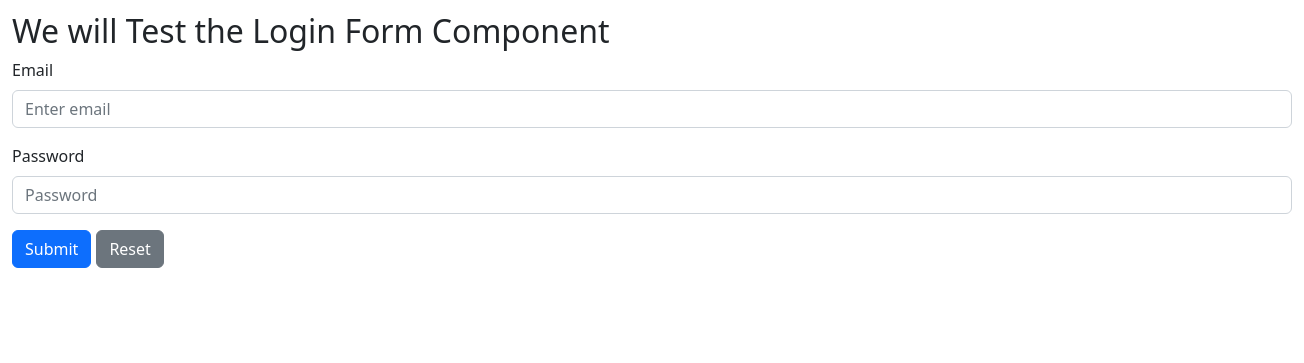
Test login component › admin should be able to login the form and reset password
Type "sriadmin@gmail.com" into the field with placeholder "Enter email" at (652, 109), box [12,90,1292,128]
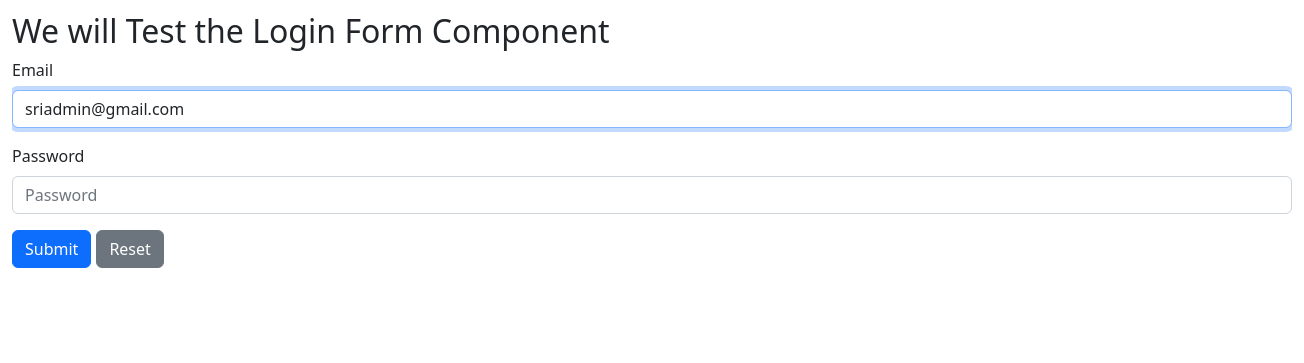
Type "123445" into the password field with placeholder "Password" at (652, 195), box [12,176,1292,214]
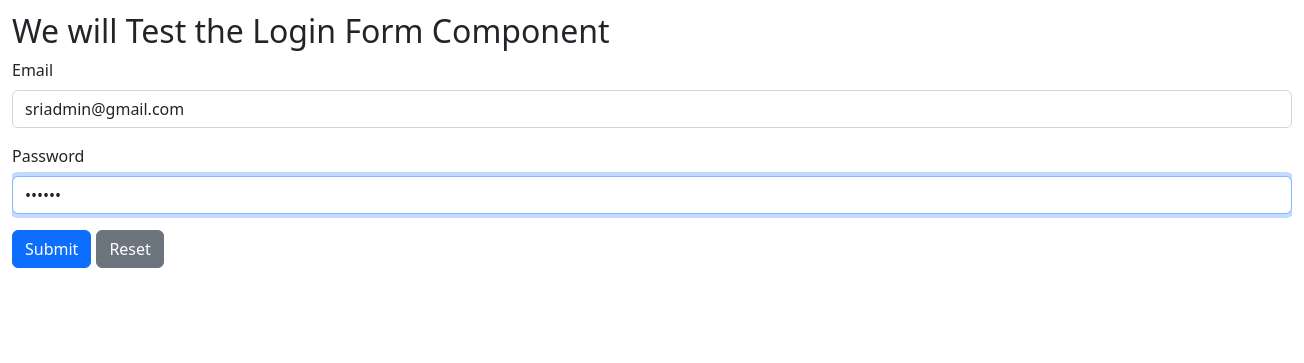
Click the button with test id "submit" at (52, 249), box [12,230,91,268]
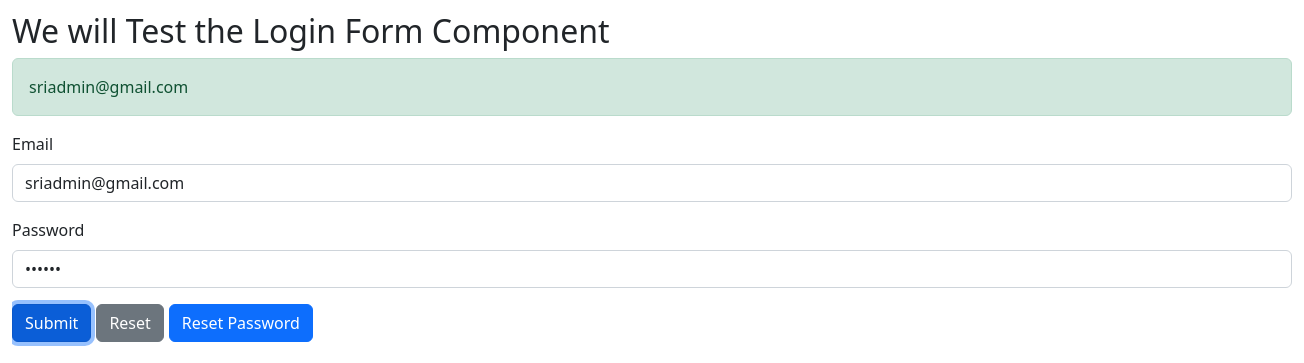
Expected: the number of buttons is 3, [12,304,91,342]; [96,304,164,342]; [169,304,313,342]
Now the text "sriadmin@gmail.com" is shown, box [12,58,1292,116]
